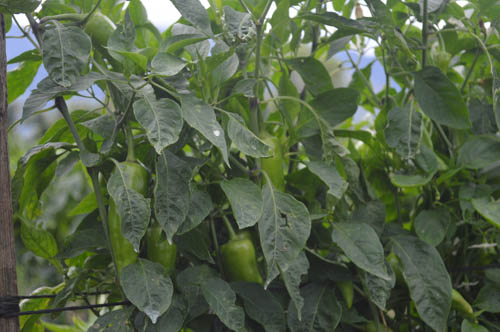ChiliPepper: (108, 164, 148, 276), (225, 239, 261, 285), (260, 133, 286, 195), (149, 226, 177, 266)
